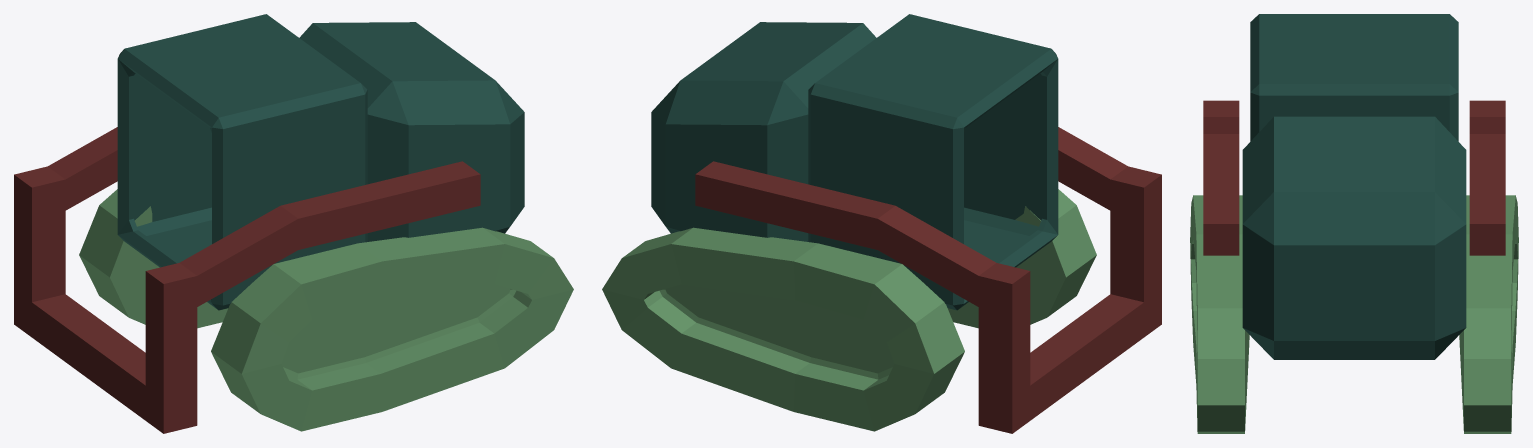
File: Vector_Robo_NLA bake_hovername.glb
The picture shows the model from 3 angles, left to right: view 1: azimuth 30°, elevation 25°; view 2: azimuth 150°, elevation 25°; view 3: azimuth 270°, elevation 25°; orthographic projection.
Parts seen in each view (by area): view 1: Rollers, Head, Hands, Back; view 2: Rollers, Head, Hands, Back; view 3: Back, Head, Rollers, Hands.
Boxes of the visible parts, x1=… form: Rollers: x1=79, y1=189, x2=573, y2=431; Head: x1=117, y1=14, x2=367, y2=310; Hands: x1=14, y1=127, x2=480, y2=433; Back: x1=299, y1=22, x2=524, y2=241; Rollers: x1=602, y1=189, x2=1096, y2=431; Head: x1=808, y1=14, x2=1058, y2=310; Hands: x1=695, y1=127, x2=1161, y2=433; Back: x1=651, y1=22, x2=876, y2=241; Back: x1=1242, y1=116, x2=1466, y2=359; Head: x1=1250, y1=14, x2=1458, y2=141; Rollers: x1=1190, y1=195, x2=1518, y2=433; Hands: x1=1203, y1=100, x2=1505, y2=255.
Size of the model in its own units: 1.41 by 1.01 by 0.9754.
